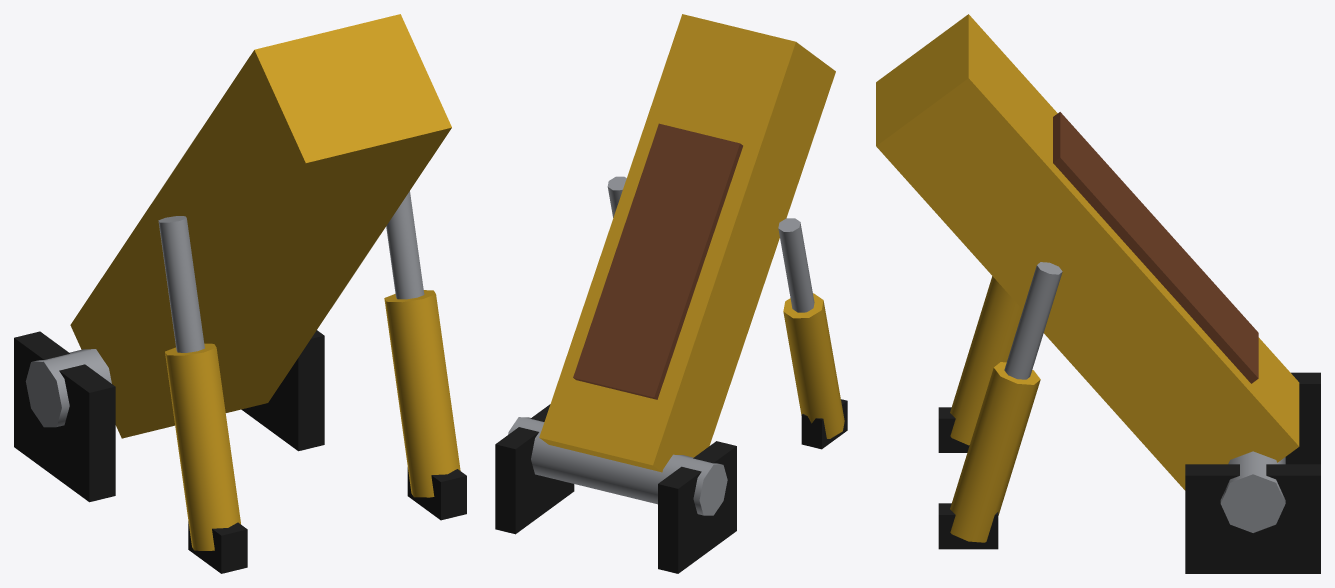
The model's file is mk1_boom.obj.
3 renders of one model, left to right at view 1: azimuth 30°, elevation 25°; view 2: azimuth 150°, elevation 25°; view 3: azimuth 270°, elevation 25°, orthographic. The views are drawn at different scales.
Parts seen in each view (by area): view 1: mk1_boom; view 2: mk1_boom; view 3: mk1_boom.
Part boxes in pixels (box(x1,y1,x2,y2)): mk1_boom: box(14, 14, 466, 573); mk1_boom: box(495, 14, 847, 573); mk1_boom: box(876, 14, 1320, 573).
Bounding box in the file's own units: 1.02 × 1.94 × 1.64.
